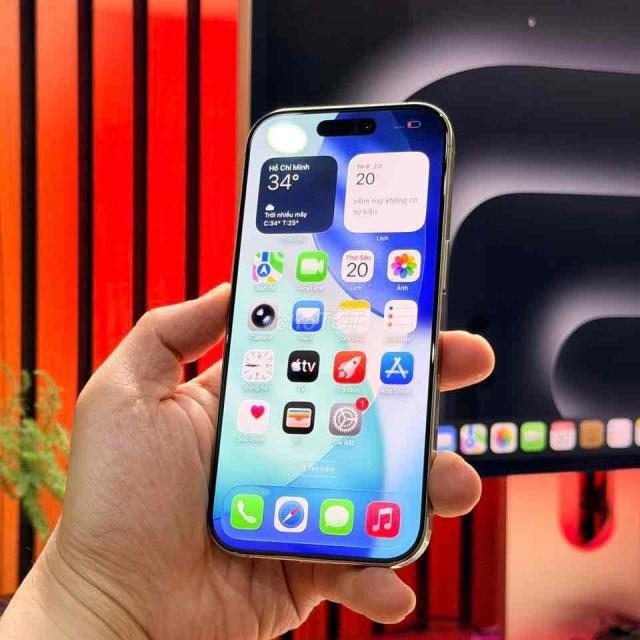gen_16: (200, 99, 459, 572)
